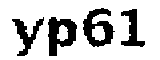1: (117, 7, 147, 50)
6: (80, 6, 115, 52)
p: (45, 14, 77, 60)
y: (5, 13, 45, 59)
